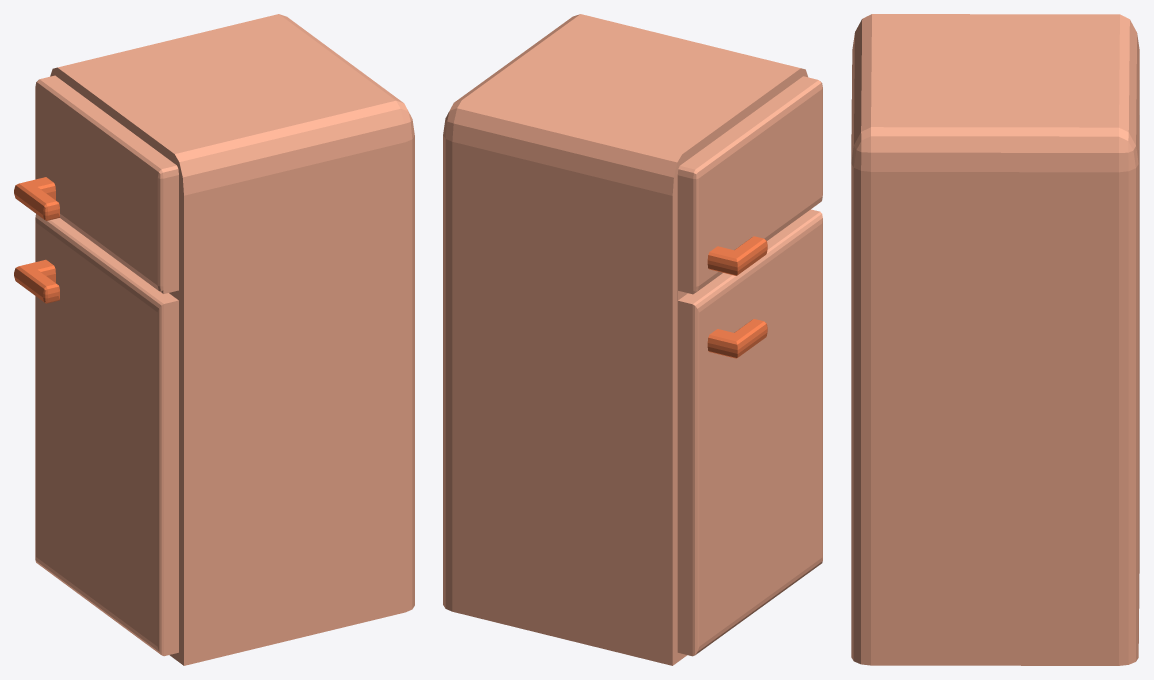
File: Fredge.fbx
The picture shows the model from 3 angles, left to right: view 1: azimuth 30°, elevation 25°; view 2: azimuth 150°, elevation 25°; view 3: azimuth 270°, elevation 25°; orthographic projection. The views are drawn at different scales.
Parts seen in each view (by area): view 1: Fredge; view 2: Fredge; view 3: Fredge.
Boxes of the visible parts, bbox=[...] form: Fredge: bbox=[14, 14, 414, 665]; Fredge: bbox=[443, 14, 822, 665]; Fredge: bbox=[851, 14, 1139, 665].
Bounding box in the file's own units: 154 × 259 × 128.
